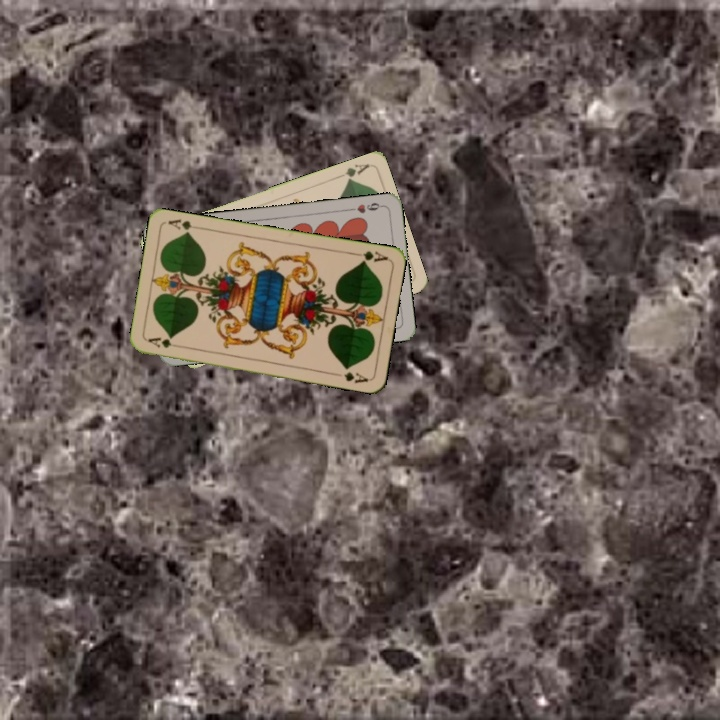GA: (332, 159, 372, 185), (349, 247, 390, 265), (144, 333, 184, 351)
H9: (345, 198, 386, 216)
